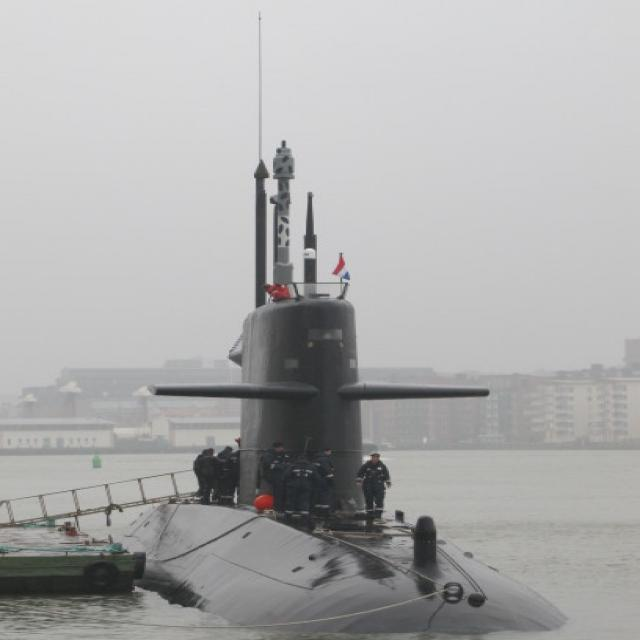submarine: (108, 127, 577, 637)
